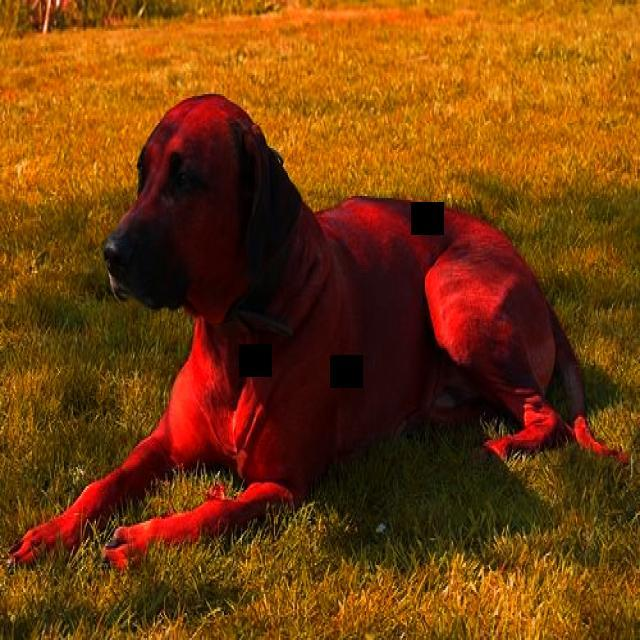adult_dog: (11, 89, 630, 582)
